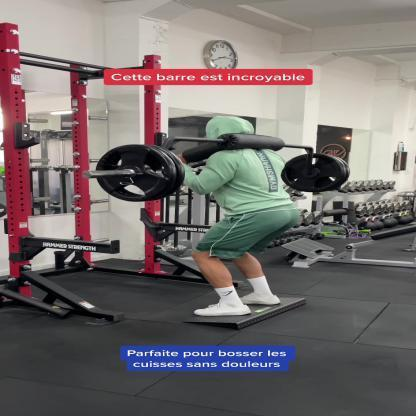barbell: (83, 144, 350, 202)
